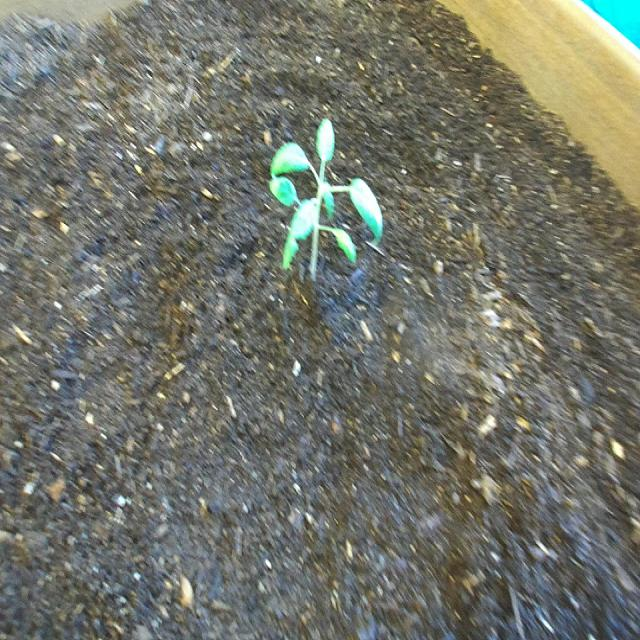Healthy: (264, 101, 389, 305)
